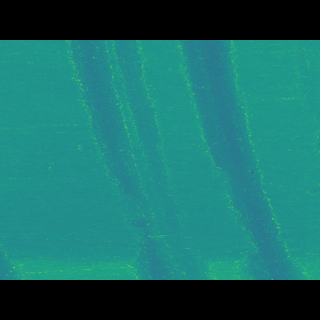Loch: (62, 69, 210, 250), (175, 69, 305, 250)
